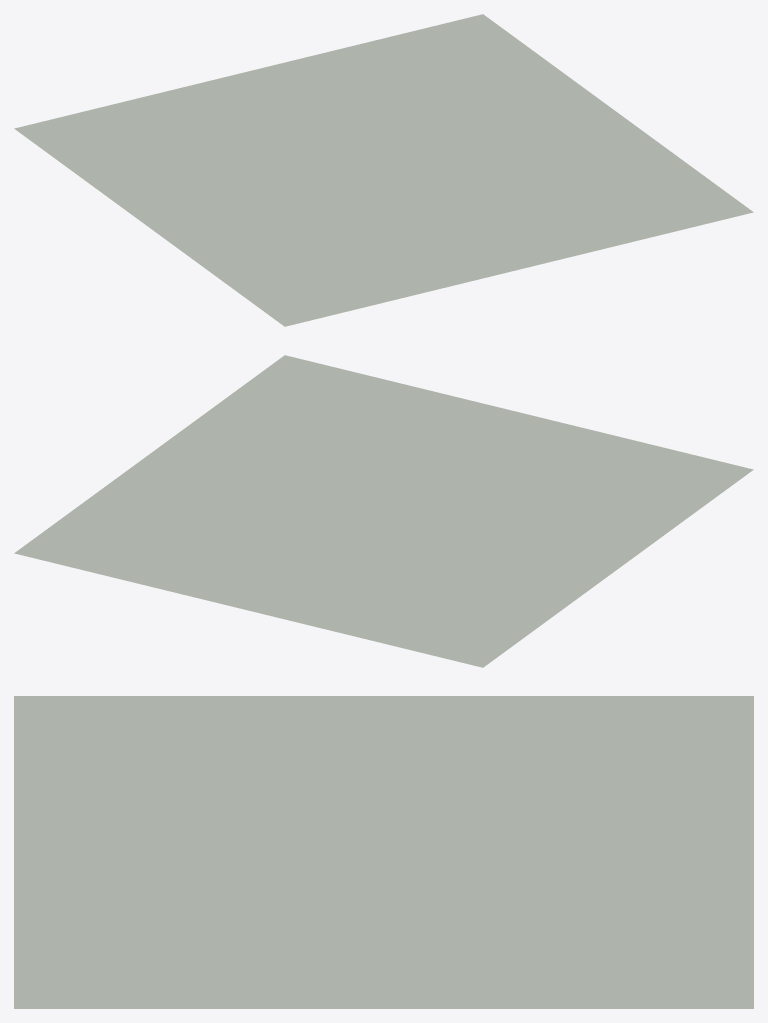
3 renders of one model, top to bottom at view 1: azimuth 30°, elevation 25°; view 2: azimuth 150°, elevation 25°; view 3: azimuth 270°, elevation 25°, orthographic. The views are drawn at different scales.
Bounding box in the file's own units: 1.97 × 0 × 1.97.
1 material, 1 textured.
